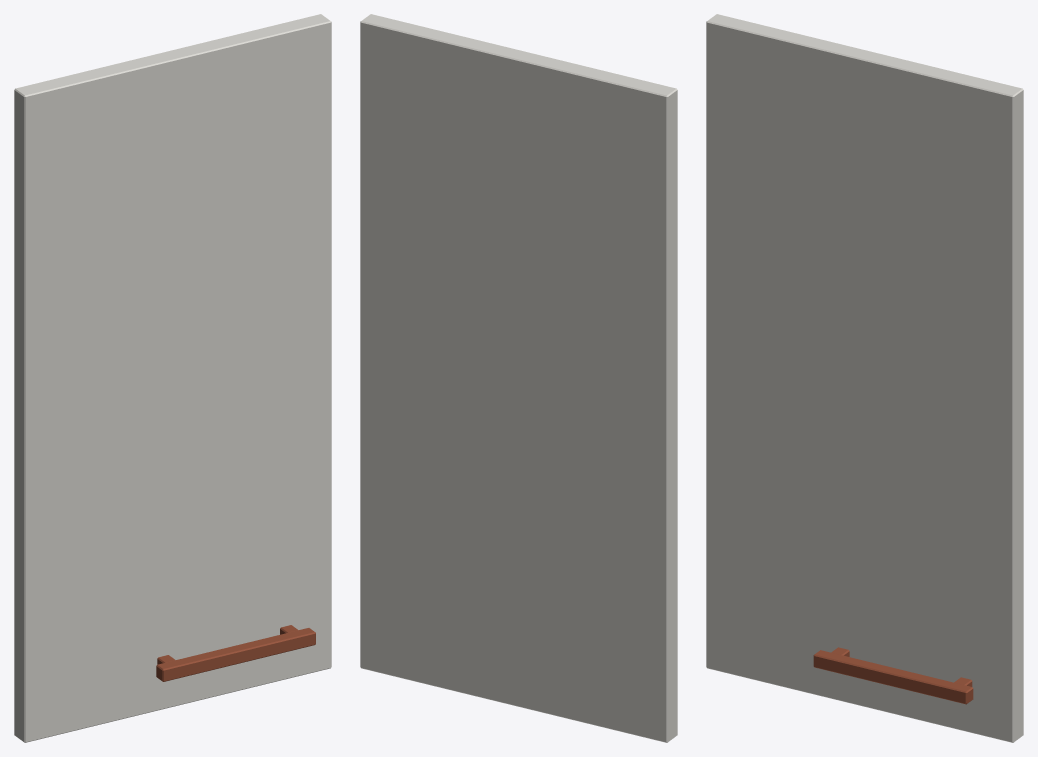
File: kitchen_run_appliances_w5_door.glb
3 views of the same model, side by side, from view 1: azimuth 30°, elevation 25°; view 2: azimuth 150°, elevation 25°; view 3: azimuth 330°, elevation 25° (orthographic).
Parts seen in each view (by area): view 1: kitchen_run_appliances_w5_door; view 2: kitchen_run_appliances_w5_door; view 3: kitchen_run_appliances_w5_door.
Part boxes in pixels (x1,y1,x2,y2): kitchen_run_appliances_w5_door: (14, 14, 331, 742); kitchen_run_appliances_w5_door: (360, 14, 677, 742); kitchen_run_appliances_w5_door: (706, 14, 1023, 742).
Bounding box in the file's own units: 0.297 × 0.597 × 0.044.
